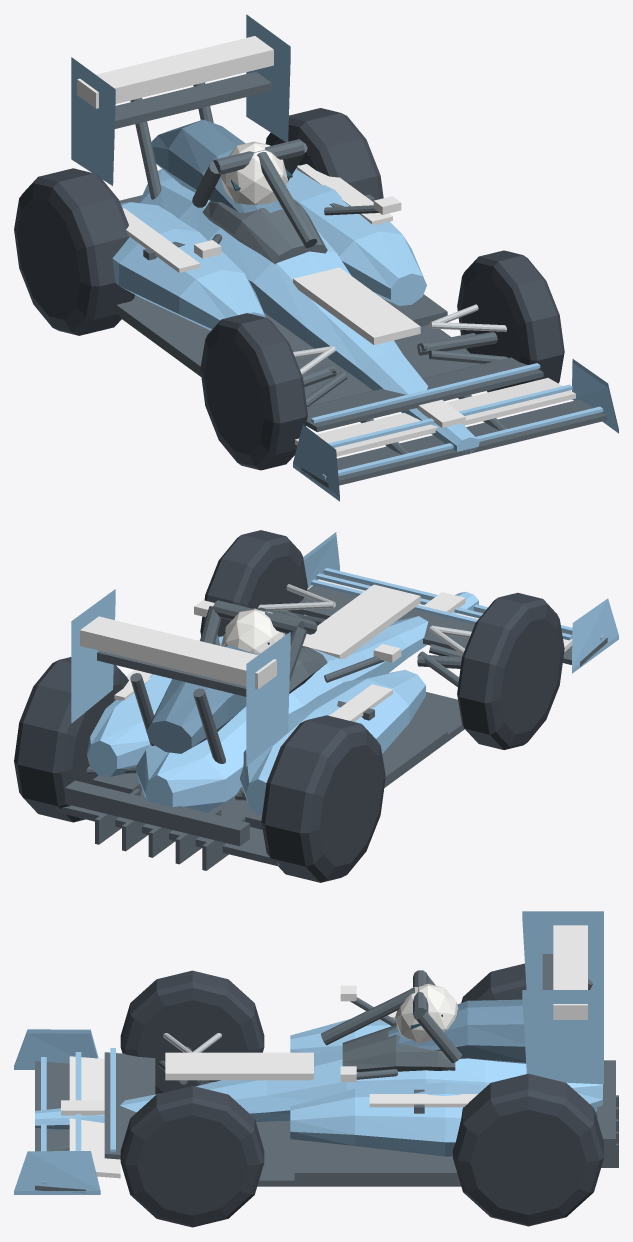
The model's file is williams_mobile.glb.
3 renders of one model, top to bottom at view 1: azimuth 30°, elevation 25°; view 2: azimuth 150°, elevation 25°; view 3: azimuth 270°, elevation 25°, orthographic. The views are drawn at different scales.
Parts seen in each view (by area): view 1: BODY_paint, BODY_carbon, BODY_accent, RearLeftWheel_rubber, FrontLeftWheel_rubber, FrontRightWheel_rubber, RearRightWheel_rubber, BODY_paint_dark, BODY_helmet, BODY_metal; view 2: BODY_paint, BODY_carbon, RearLeftWheel_rubber, BODY_accent, FrontLeftWheel_rubber, RearRightWheel_rubber, FrontRightWheel_rubber, BODY_paint_dark, BODY_helmet, BODY_metal; view 3: BODY_paint, BODY_carbon, RearRightWheel_rubber, FrontRightWheel_rubber, BODY_accent, FrontLeftWheel_rubber, BODY_paint_dark, BODY_helmet, RearLeftWheel_rubber.
Boxes of the visible parts, <box> form: BODY_paint: <box>71,14,618,501</box>; BODY_carbon: <box>114,71,606,487</box>; BODY_accent: <box>77,36,575,456</box>; RearLeftWheel_rubber: <box>14,168,134,335</box>; FrontLeftWheel_rubber: <box>200,313,307,470</box>; FrontRightWheel_rubber: <box>457,250,564,392</box>; RearRightWheel_rubber: <box>265,108,383,200</box>; BODY_paint_dark: <box>151,119,283,212</box>; BODY_helmet: <box>221,141,287,205</box>; BODY_metal: <box>293,304,506,375</box>; BODY_paint: <box>71,532,618,815</box>; BODY_carbon: <box>56,573,607,870</box>; RearLeftWheel_rubber: <box>261,715,385,882</box>; BODY_accent: <box>80,579,572,721</box>; FrontLeftWheel_rubber: <box>457,592,564,749</box>; RearRightWheel_rubber: <box>14,657,128,822</box>; FrontRightWheel_rubber: <box>200,530,307,636</box>; BODY_paint_dark: <box>146,646,257,753</box>; BODY_helmet: <box>221,608,285,654</box>; BODY_metal: <box>258,584,471,654</box>; BODY_paint: <box>14,911,603,1194</box>; BODY_carbon: <box>35,954,618,1193</box>; RearRightWheel_rubber: <box>453,1073,603,1226</box>; FrontRightWheel_rubber: <box>120,1086,264,1227</box>; BODY_accent: <box>61,925,587,1178</box>; FrontLeftWheel_rubber: <box>120,970,264,1094</box>; BODY_paint_dark: <box>388,999,526,1063</box>; BODY_helmet: <box>395,983,458,1042</box>; RearLeftWheel_rubber: <box>461,963,526,1002</box>.
Size of the model in its own units: 2.59 by 1.9 by 4.88.
